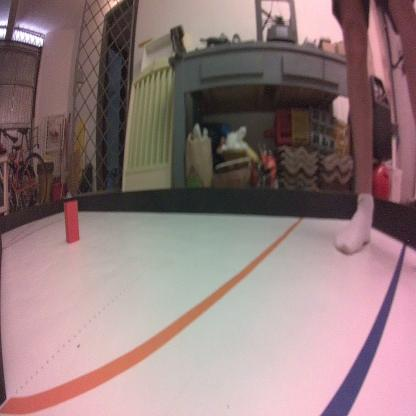red: (61, 198, 80, 246)
